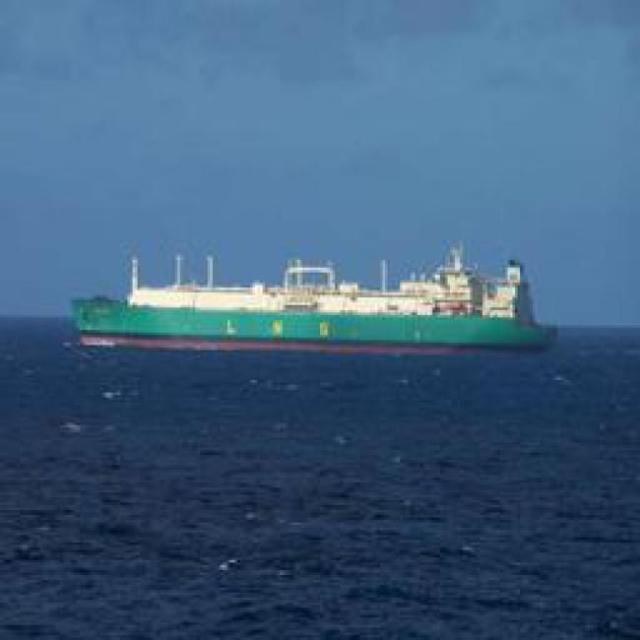boat: (41, 253, 600, 363)
